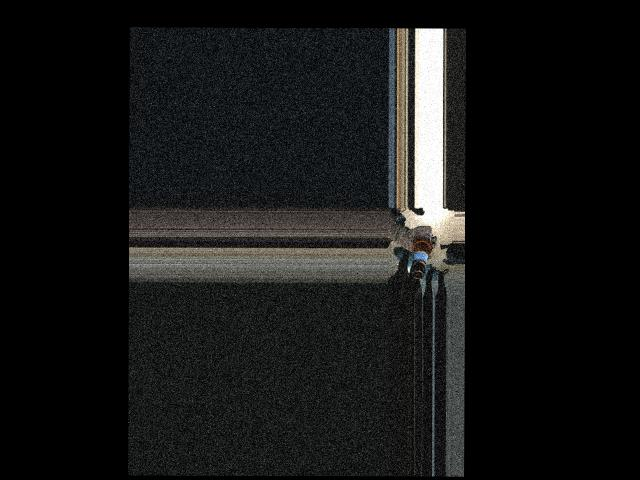beer: (411, 228, 433, 279)
